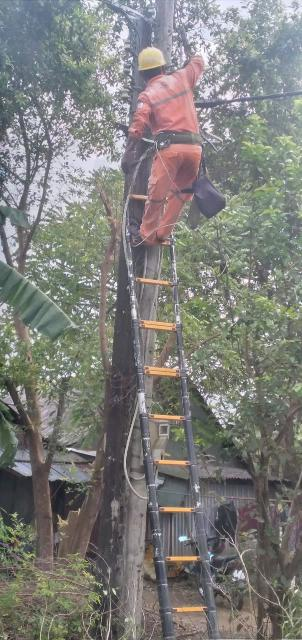gloves: (113, 133, 145, 176)
harness: (146, 125, 214, 154)
helmet: (132, 44, 172, 82)
